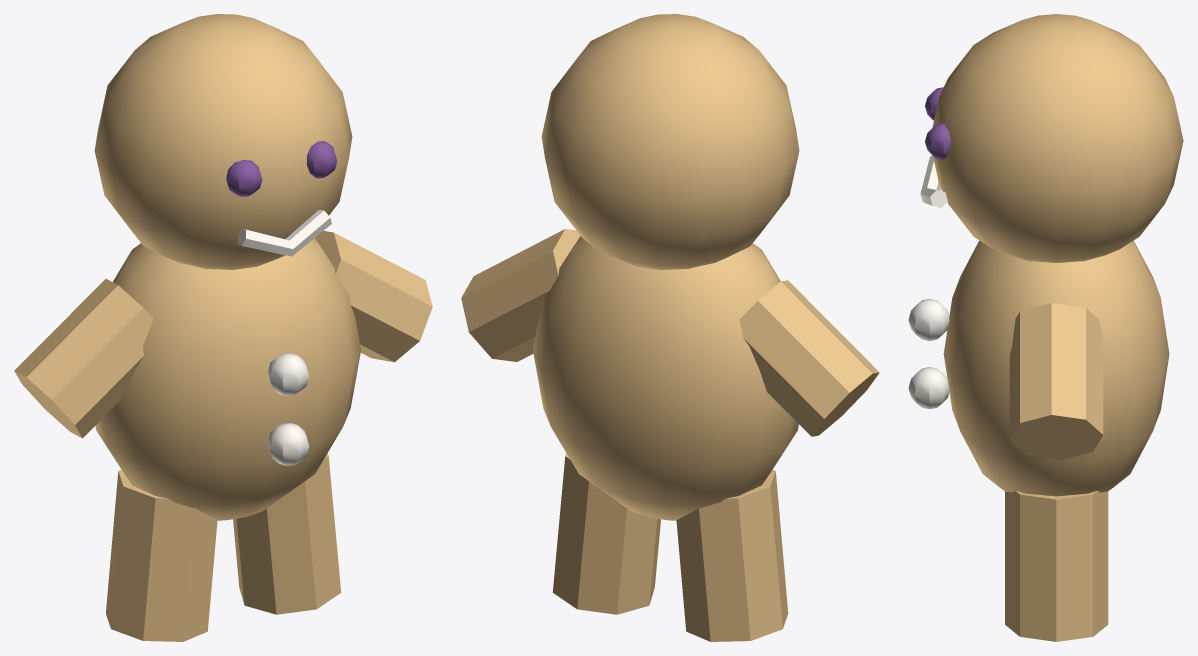
The model's file is PASSENGER.fbx.
The picture shows the model from 3 angles, left to right: view 1: azimuth 30°, elevation 25°; view 2: azimuth 150°, elevation 25°; view 3: azimuth 270°, elevation 25°; orthographic projection. The views are drawn at different scales.
Parts seen in each view (by area): view 1: PASSENGER; view 2: PASSENGER; view 3: PASSENGER.
Part boxes in pixels (x1=…): PASSENGER: x1=14, y1=14, x2=432, y2=641; PASSENGER: x1=461, y1=14, x2=879, y2=641; PASSENGER: x1=908, y1=14, x2=1183, y2=641.
Size of the model in its own units: 0.957 by 1.34 by 0.585.
